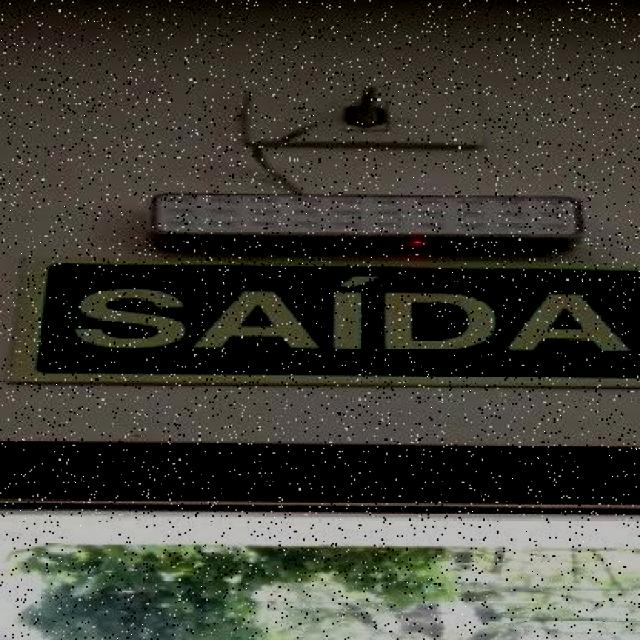emergency_exit: (1, 2, 639, 513), (35, 260, 639, 386), (149, 192, 584, 240)
